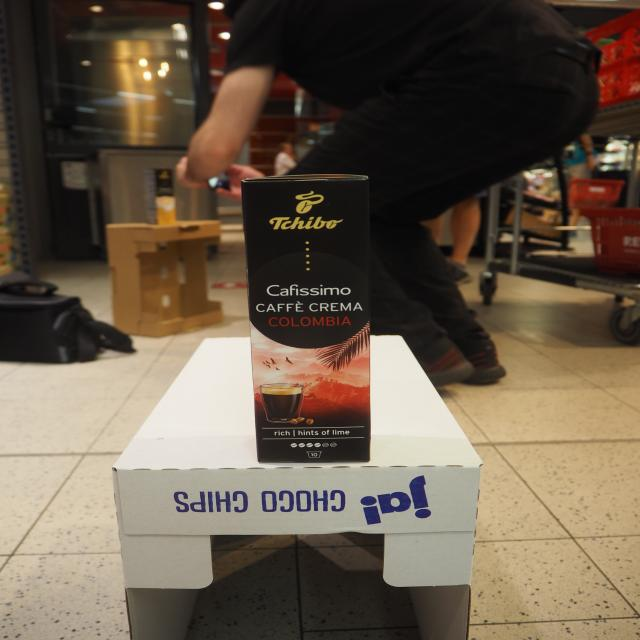Simo CC Colombia: (237, 172, 375, 467)
